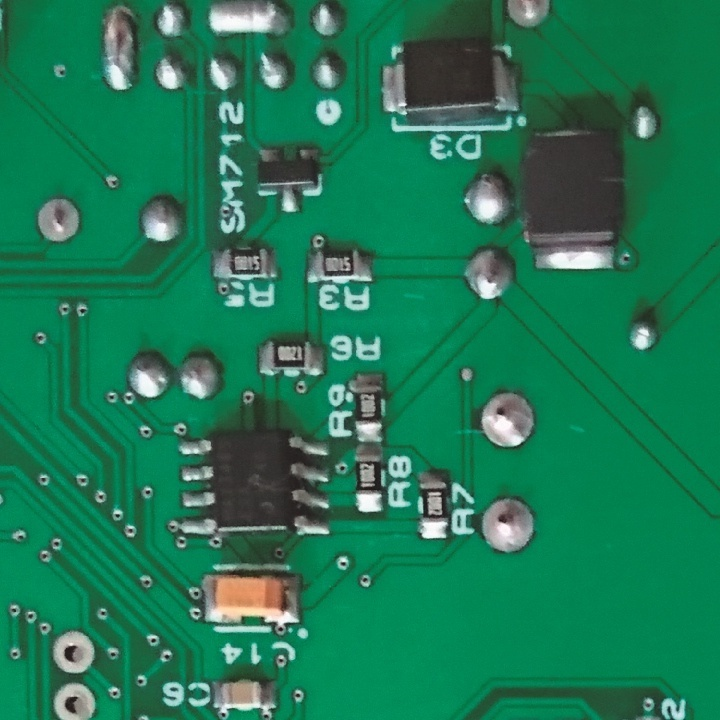F: (475, 388, 539, 452), (479, 492, 539, 560), (33, 196, 91, 246), (50, 626, 97, 676), (50, 683, 101, 720), (504, 1, 556, 37)
P: (99, 1, 139, 99), (202, 1, 298, 40)
